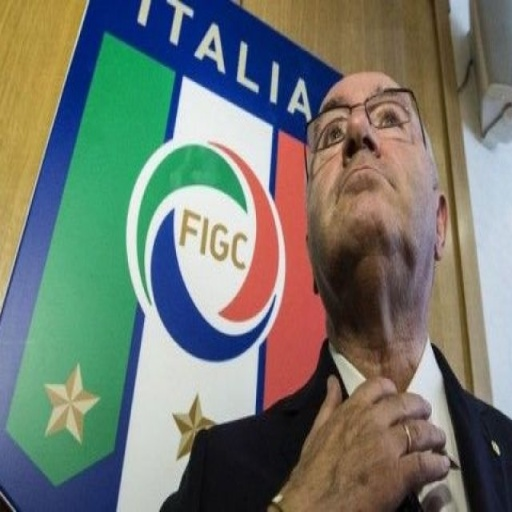hand: (277, 364, 468, 495)
